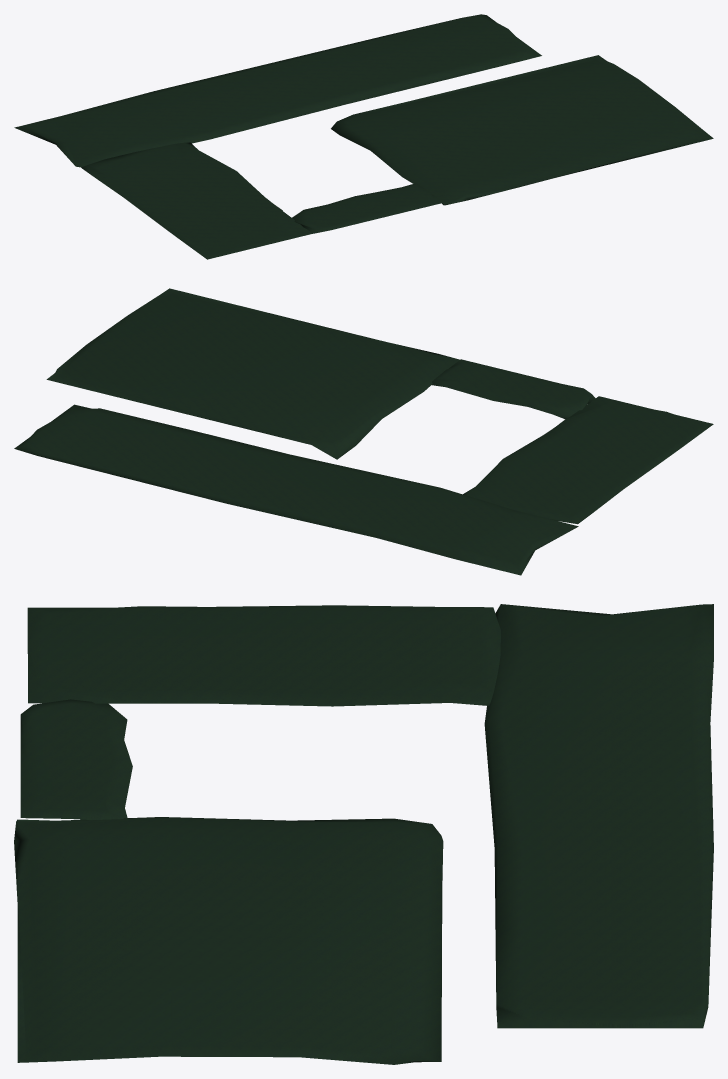
The model's file is grass.fbx.
3 views of the same model, one above another, from view 1: azimuth 30°, elevation 25°; view 2: azimuth 150°, elevation 25°; view 3: azimuth 270°, elevation 25° (orthographic). The views are drawn at different scales.
Parts seen in each view (by area): view 1: polySurface1718; view 2: polySurface1718; view 3: polySurface1718.
Part boxes in pixels (<box>): polySurface1718: <box>14,14,713,259</box>; polySurface1718: <box>14,288,713,575</box>; polySurface1718: <box>14,604,713,1064</box>.
Bounding box in the file's own units: 744 × 18.73 × 474.
